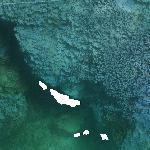dead: (3, 1, 146, 146)
